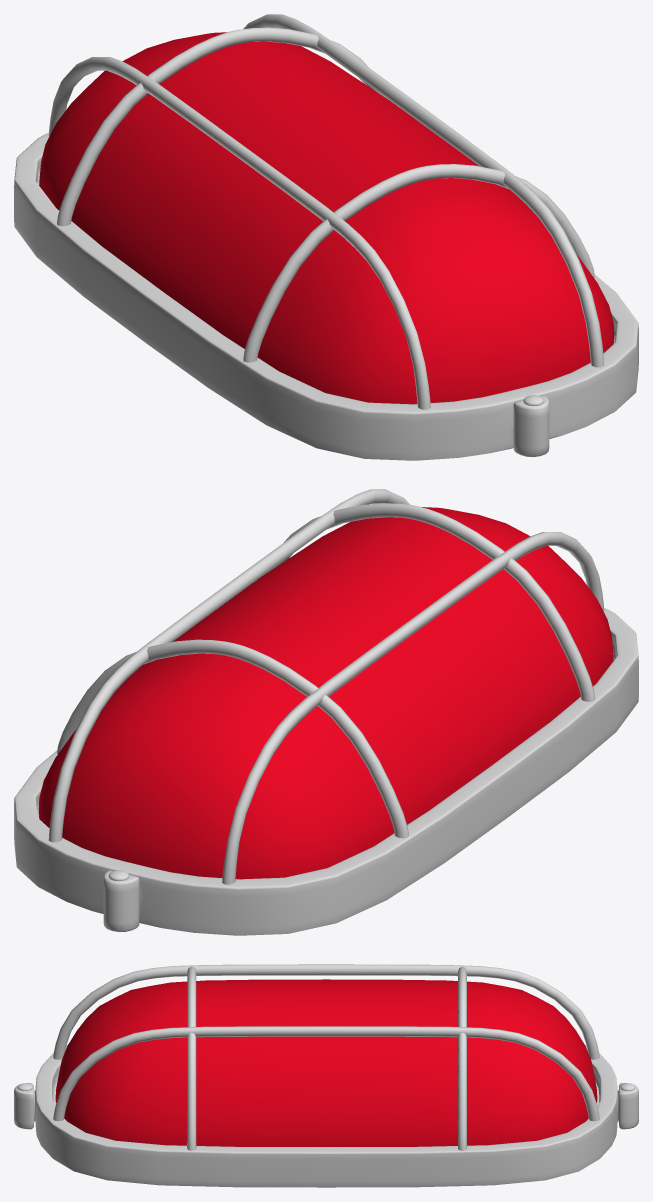
File: bunkerlamp.fbx
3 views of the same model, one above another, from view 1: azimuth 30°, elevation 25°; view 2: azimuth 150°, elevation 25°; view 3: azimuth 270°, elevation 25° (orthographic). The views are drawn at different scales.
Parts seen in each view (by area): view 1: Bunkerlamp_LOD0; view 2: Bunkerlamp_LOD0; view 3: Bunkerlamp_LOD0.
Part boxes in pixels (x1,y1,x2,y2): Bunkerlamp_LOD0: [14, 14, 638, 460]; Bunkerlamp_LOD0: [14, 489, 638, 935]; Bunkerlamp_LOD0: [14, 964, 638, 1187].
Size of what is drawn, in the model's own units: 105 by 55.2 by 215.
